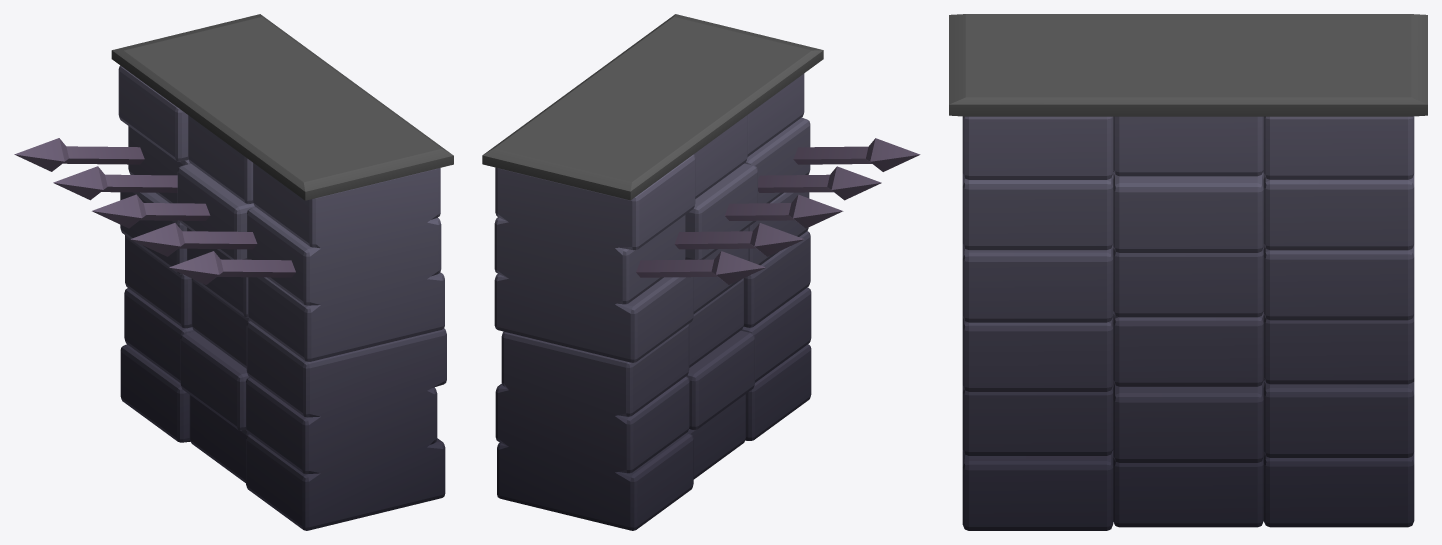
File: Wall_S.fbx
3 renders of one model, left to right at view 1: azimuth 30°, elevation 25°; view 2: azimuth 150°, elevation 25°; view 3: azimuth 270°, elevation 25°, orthographic. The views are drawn at different scales.
Parts seen in each view (by area): view 1: S_Cube_Lower, S_Cube_Upper, S_Brick_Hat, Spears_2; view 2: S_Cube_Lower, S_Cube_Upper, S_Brick_Hat, Spears_2; view 3: S_Cube_Lower, S_Cube_Upper, S_Brick_Hat.
Part boxes in pixels (x1=…): S_Cube_Lower: x1=120, y1=235, x2=446, y2=530; S_Cube_Upper: x1=118, y1=65, x2=444, y2=361; S_Brick_Hat: x1=111, y1=14, x2=453, y2=200; Spears_2: x1=14, y1=138, x2=295, y2=284; S_Cube_Lower: x1=495, y1=231, x2=811, y2=530; S_Cube_Upper: x1=494, y1=73, x2=810, y2=362; S_Brick_Hat: x1=482, y1=14, x2=823, y2=200; Spears_2: x1=636, y1=138, x2=920, y2=284; S_Cube_Lower: x1=962, y1=312, x2=1414, y2=530; S_Cube_Upper: x1=962, y1=116, x2=1414, y2=322; S_Brick_Hat: x1=949, y1=14, x2=1427, y2=116.
Bounding box in the file's own units: 551 × 689 × 690.
1 material, 1 textured.
